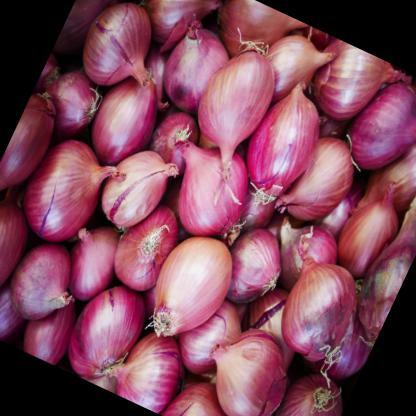onion: (247, 233, 384, 382), (60, 0, 195, 123), (134, 223, 250, 360), (181, 34, 294, 168), (11, 132, 121, 262)
